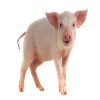heo: (17, 9, 89, 95)
